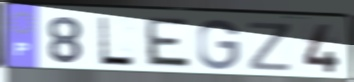4: (302, 22, 341, 75)
8: (47, 15, 85, 65)
E: (143, 16, 194, 71)
G: (196, 18, 243, 72)
L: (97, 15, 138, 69)
Z: (247, 21, 294, 74)
